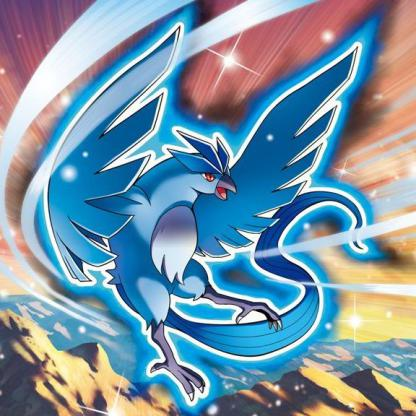Articuno: (12, 21, 397, 407)
